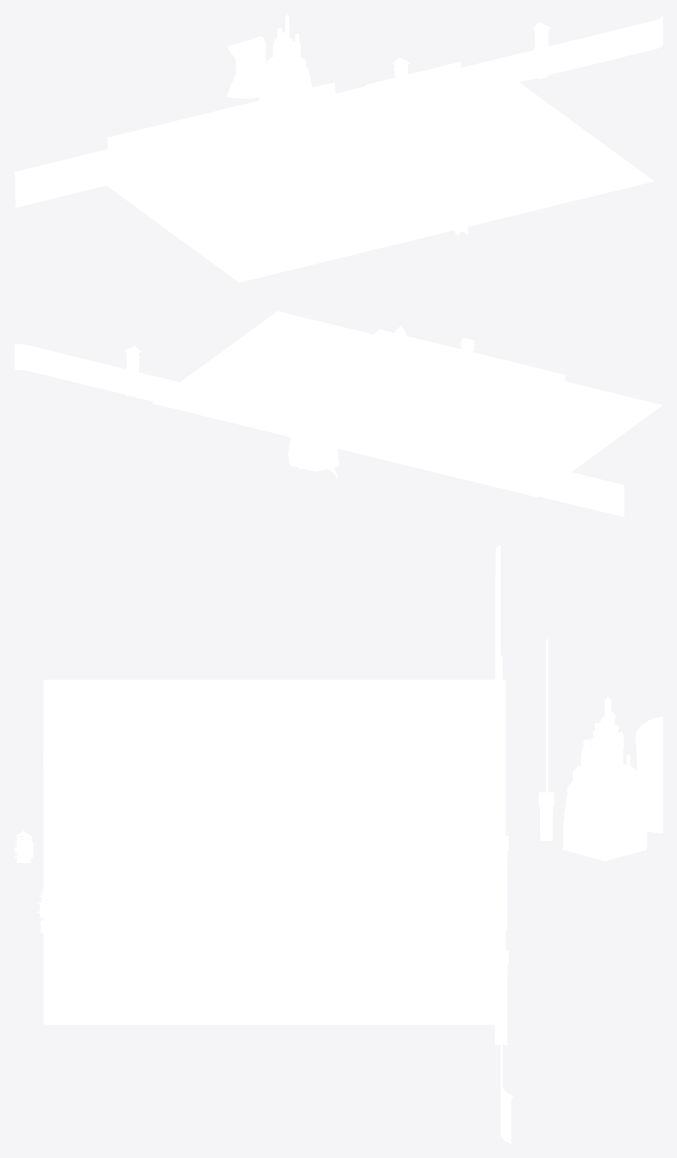
The model's file is stage.glb.
3 renders of one model, top to bottom at view 1: azimuth 30°, elevation 25°; view 2: azimuth 150°, elevation 25°; view 3: azimuth 270°, elevation 25°, orthographic. The views are drawn at different scales.
Parts seen in each view (by area): view 1: KORE_export_5_Buildings_1_0_0, KORE_export_5_Floor01B_1_0_0; view 2: KORE_export_5_Buildings_1_0_0, KORE_export_5_Floor01B_1_0_0; view 3: KORE_export_5_Floor01B_1_0_0, KORE_export_5_Buildings_1_0_0.
Part boxes in pixels (left/top/right/bottom): KORE_export_5_Buildings_1_0_0: left=14, top=14, right=662, bottom=256; KORE_export_5_Floor01B_1_0_0: left=107, top=82, right=653, bottom=282; KORE_export_5_Buildings_1_0_0: left=14, top=325, right=624, bottom=516; KORE_export_5_Floor01B_1_0_0: left=152, top=311, right=662, bottom=497; KORE_export_5_Floor01B_1_0_0: left=43, top=679, right=505, bottom=1024; KORE_export_5_Buildings_1_0_0: left=14, top=545, right=662, bottom=1143.
Bounding box in the file's own units: 18 × 2.63 × 9.11.
Materials: 2 (2 with a texture image).
